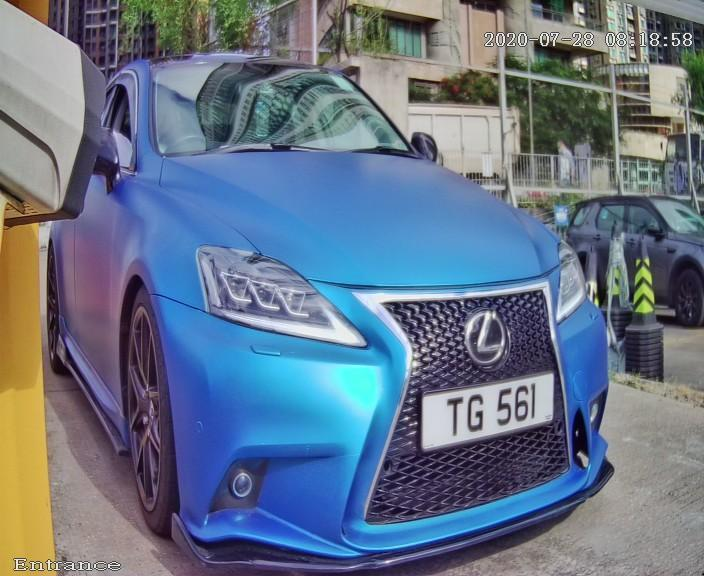privatecar: (32, 1, 620, 554)
